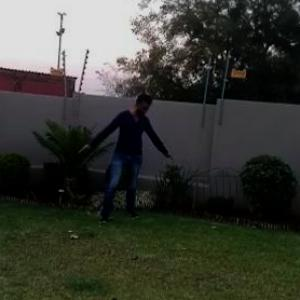land: (74, 90, 184, 232)
